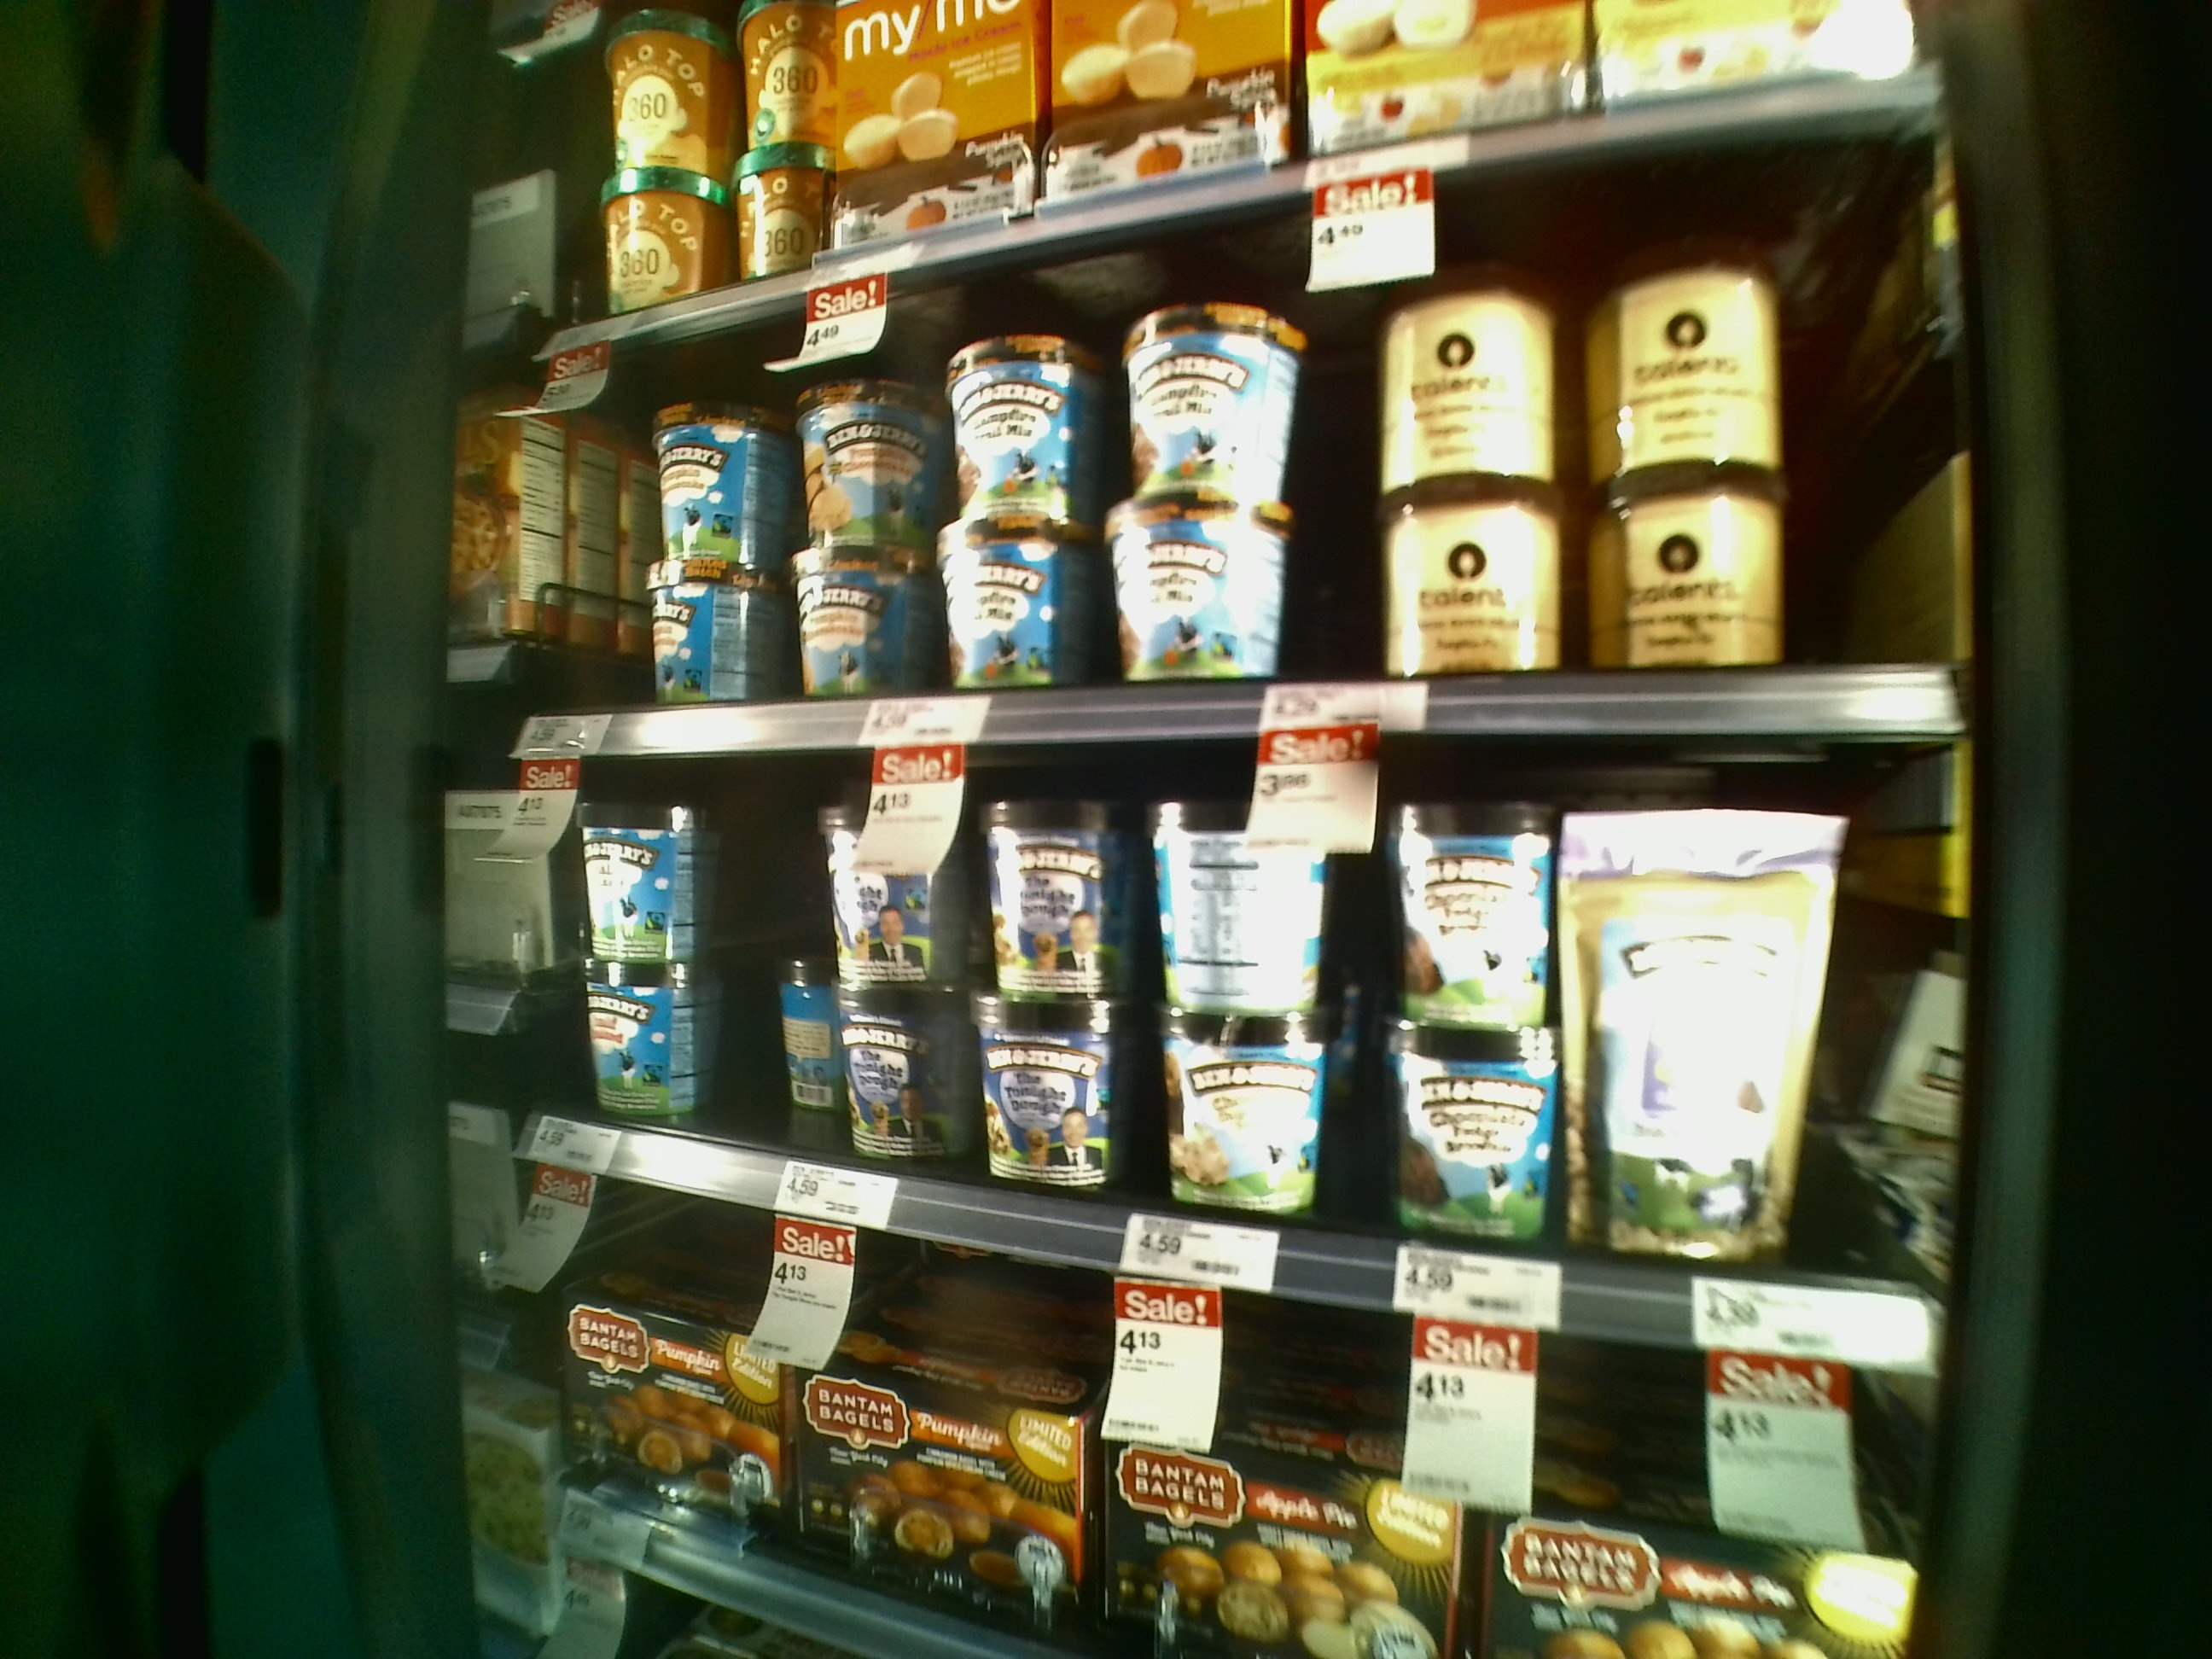shelf: (529, 694, 1923, 1352), (542, 251, 1940, 716)
